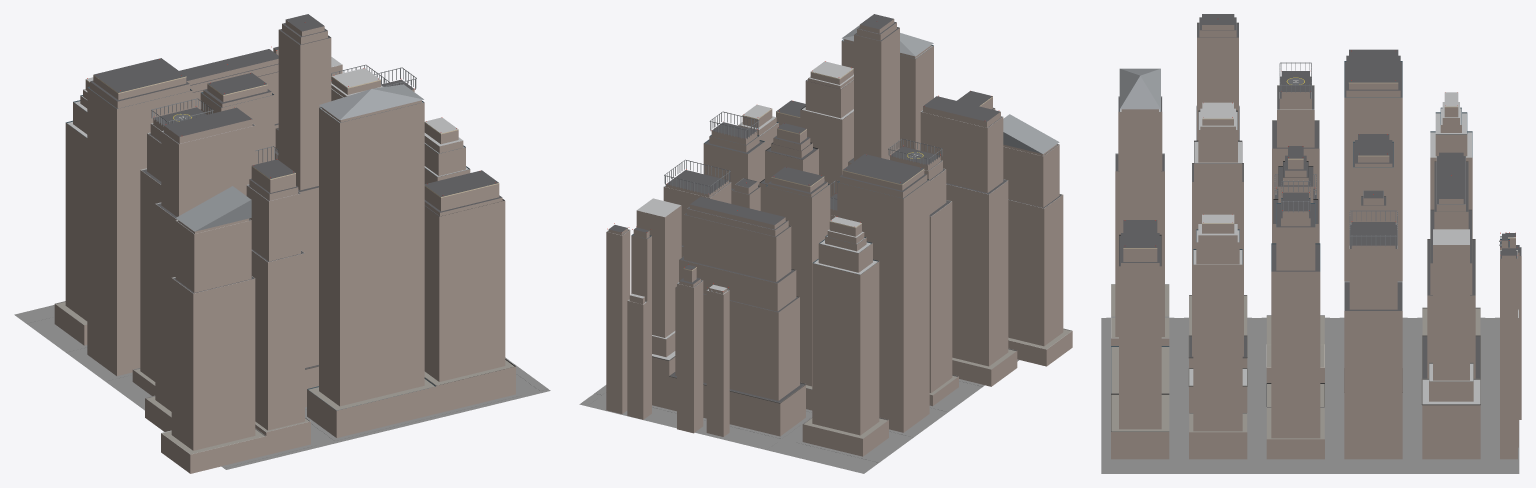
3 renders of one model, left to right at view 1: azimuth 30°, elevation 25°; view 2: azimuth 150°, elevation 25°; view 3: azimuth 270°, elevation 25°, orthographic. The views are drawn at different scales.
Parts seen in each view (by area): view 1: t23_facade, t23_roof, t23_ground, t23_detail; view 2: t23_facade, t23_roof, t23_ground, t23_detail; view 3: t23_facade, t23_roof, t23_ground, t23_detail.
Boxes of the visible parts, x1,y1,x2,y2 form: t23_facade: (54, 20, 515, 473); t23_roof: (56, 14, 514, 454); t23_ground: (14, 305, 550, 469); t23_detail: (55, 23, 515, 454); t23_facade: (606, 19, 1072, 456); t23_roof: (607, 14, 1071, 438); t23_ground: (579, 359, 1019, 473); t23_detail: (606, 22, 1071, 438); t23_facade: (1111, 25, 1521, 459); t23_roof: (1111, 14, 1521, 439); t23_ground: (1101, 317, 1519, 473); t23_detail: (1111, 17, 1521, 438).
Bounding box in the file's own units: 416 × 415 × 432.
